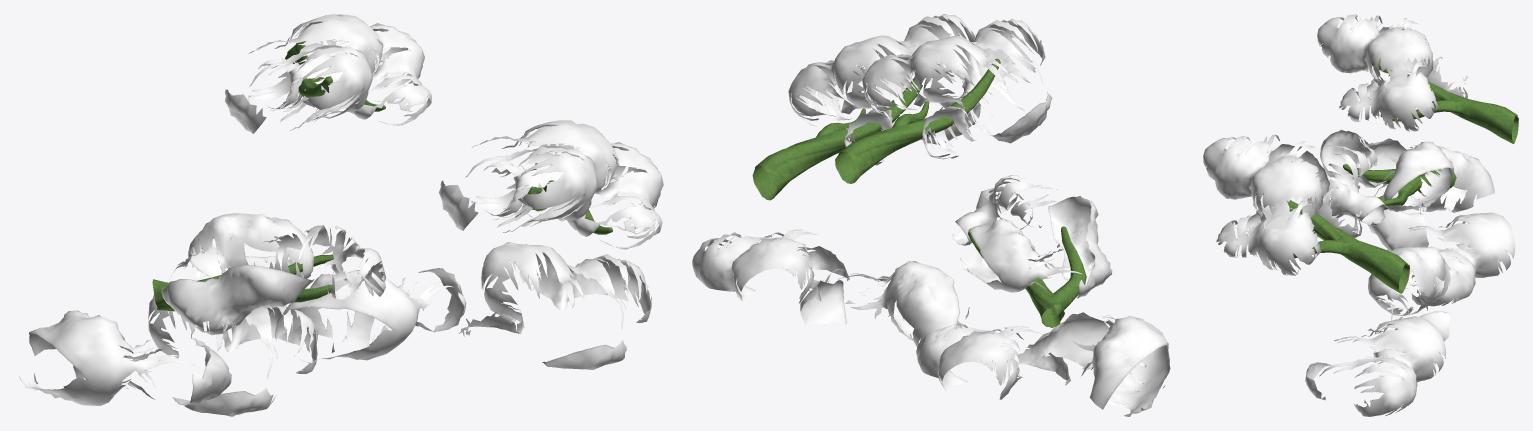
The model's file is SM_ENV_KNFRST_DistanceLeaf_GroupA.FBX.
The picture shows the model from 3 angles, left to right: view 1: azimuth 30°, elevation 25°; view 2: azimuth 150°, elevation 25°; view 3: azimuth 270°, elevation 25°; orthographic projection. The views are drawn at different scales.
Parts seen in each view (by area): view 1: SM_ENV_KNFRST_DistanceLeaf_GroupA; view 2: SM_ENV_KNFRST_DistanceLeaf_GroupA; view 3: SM_ENV_KNFRST_DistanceLeaf_GroupA.
Part boxes in pixels (x1,y1,x2,y2): SM_ENV_KNFRST_DistanceLeaf_GroupA: [19, 14, 663, 416]; SM_ENV_KNFRST_DistanceLeaf_GroupA: [692, 14, 1170, 416]; SM_ENV_KNFRST_DistanceLeaf_GroupA: [1203, 14, 1518, 416].
Size of the model in its own units: 6347 by 3797 by 3838.
